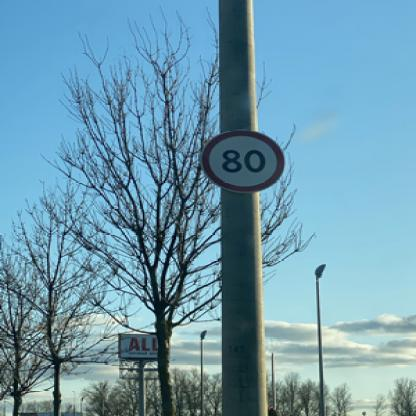speedlimit: (200, 129, 284, 191)
